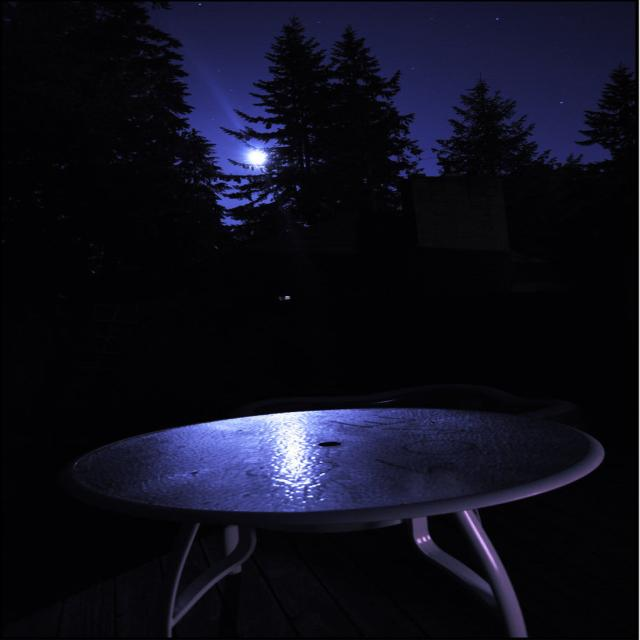Table: (58, 388, 625, 640)
